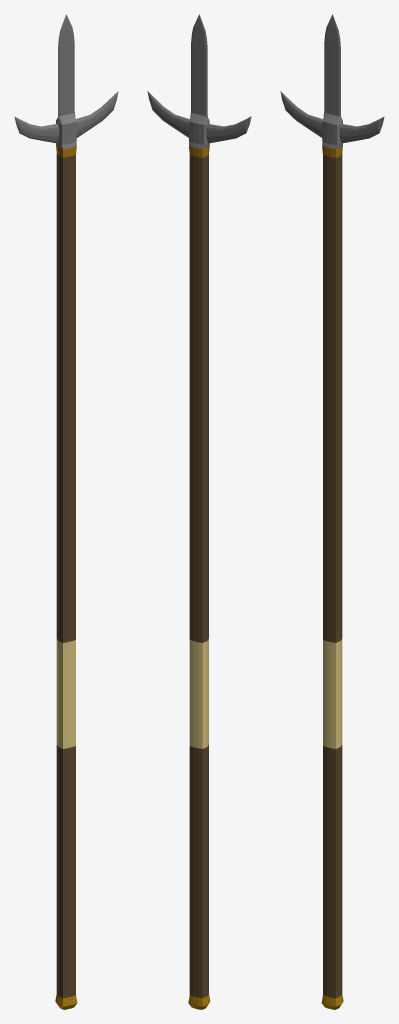
File: Asian_Prop_Weapon_Yari_01.FBX
3 views of the same model, side by side, from view 1: azimuth 30°, elevation 25°; view 2: azimuth 150°, elevation 25°; view 3: azimuth 330°, elevation 25° (orthographic).
Parts seen in each view (by area): view 1: Asian_Prop_Weapon_Yari_01; view 2: Asian_Prop_Weapon_Yari_01; view 3: Asian_Prop_Weapon_Yari_01.
Boxes of the visible parts, x1,y1,x2,y2 form: Asian_Prop_Weapon_Yari_01: (14,14,118,1009); Asian_Prop_Weapon_Yari_01: (147,14,251,1009); Asian_Prop_Weapon_Yari_01: (280,14,384,1009).
Size of the model in its own units: 311 by 2830 by 42.58.
